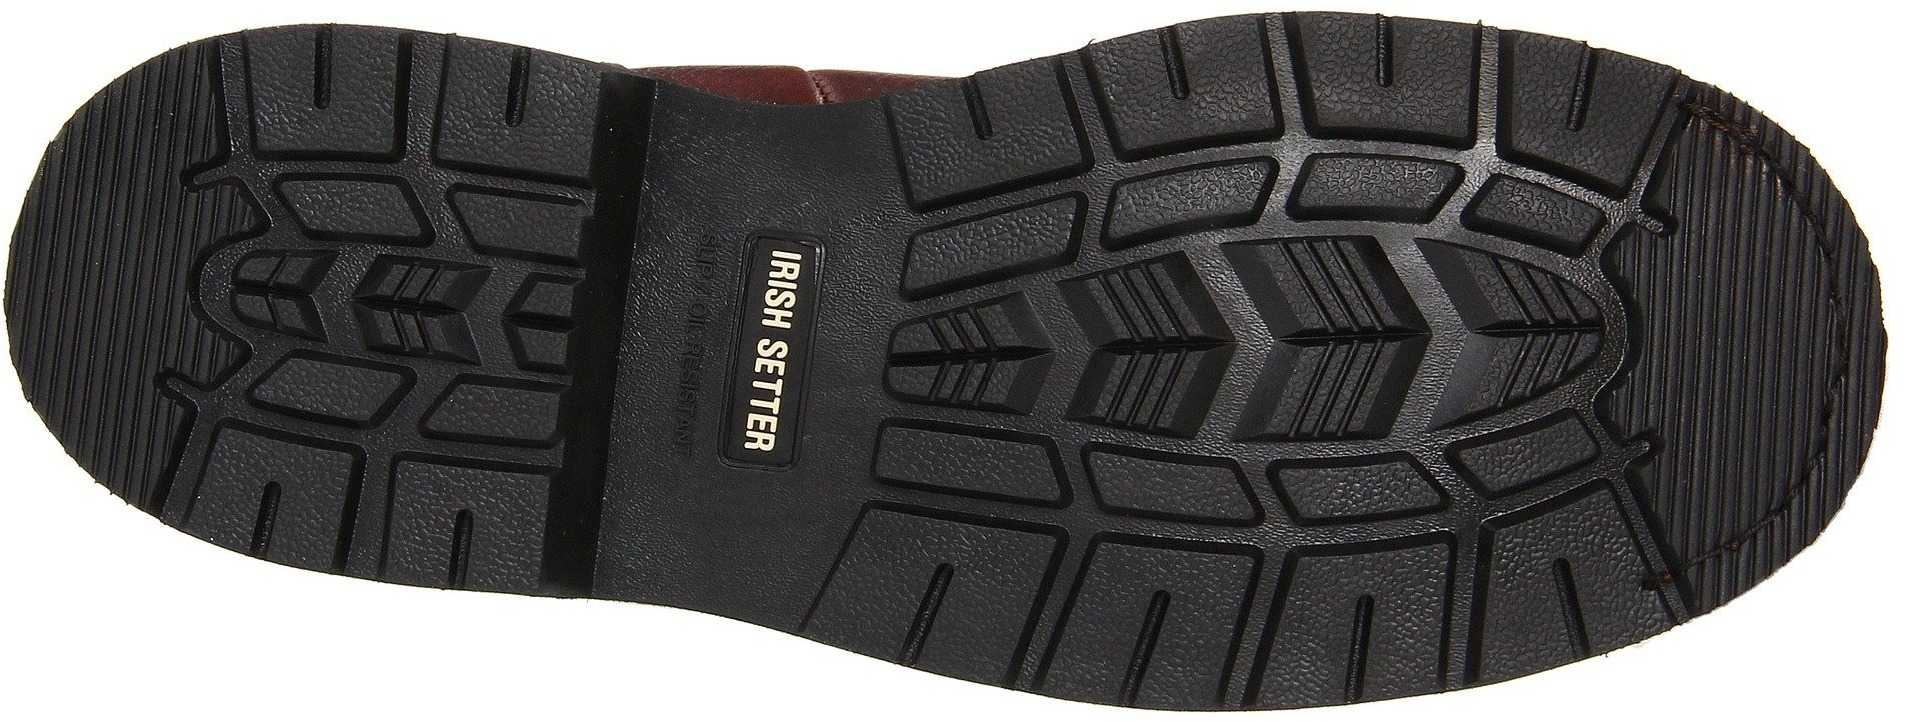chevron: (1213, 220, 1443, 452), (1037, 237, 1229, 466), (868, 276, 1058, 436), (346, 239, 513, 389)
exclude: (537, 4, 989, 690)
line: (1068, 5, 1297, 244)
other: (1652, 239, 1857, 444), (21, 184, 194, 365)
quad: (661, 187, 876, 497), (841, 476, 1089, 717), (1123, 449, 1348, 705), (1254, 9, 1482, 250), (1068, 5, 1297, 244), (1213, 220, 1443, 452), (1385, 439, 1598, 675), (1037, 237, 1229, 466), (979, 74, 1192, 278), (323, 60, 518, 237), (868, 276, 1058, 436), (239, 123, 446, 256), (1067, 427, 1284, 545), (346, 239, 513, 389), (1431, 394, 1619, 515), (238, 333, 432, 442)
text: (661, 187, 876, 497), (707, 243, 830, 382), (721, 387, 817, 481)
